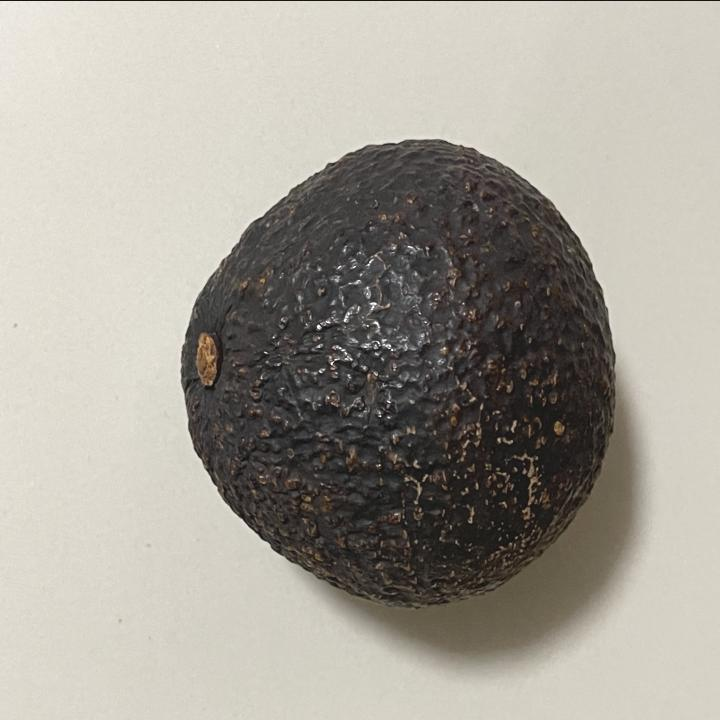Level3: (170, 126, 624, 618)
